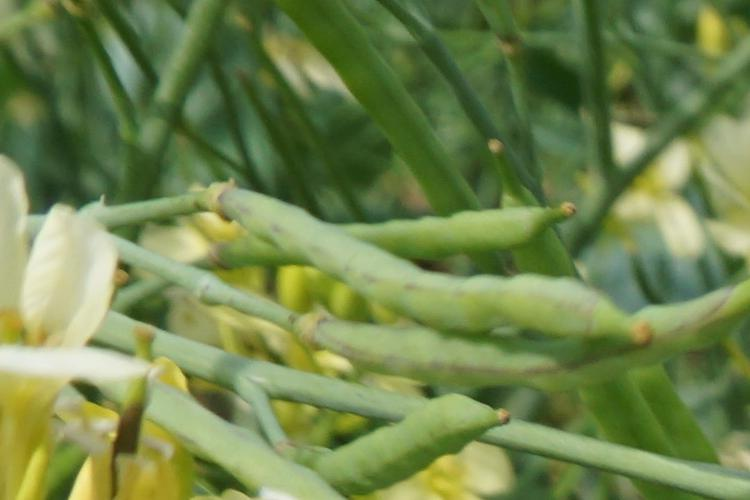pod: (191, 177, 675, 358), (234, 359, 531, 488), (297, 186, 579, 268), (296, 309, 577, 390)
white: (12, 174, 136, 478)
